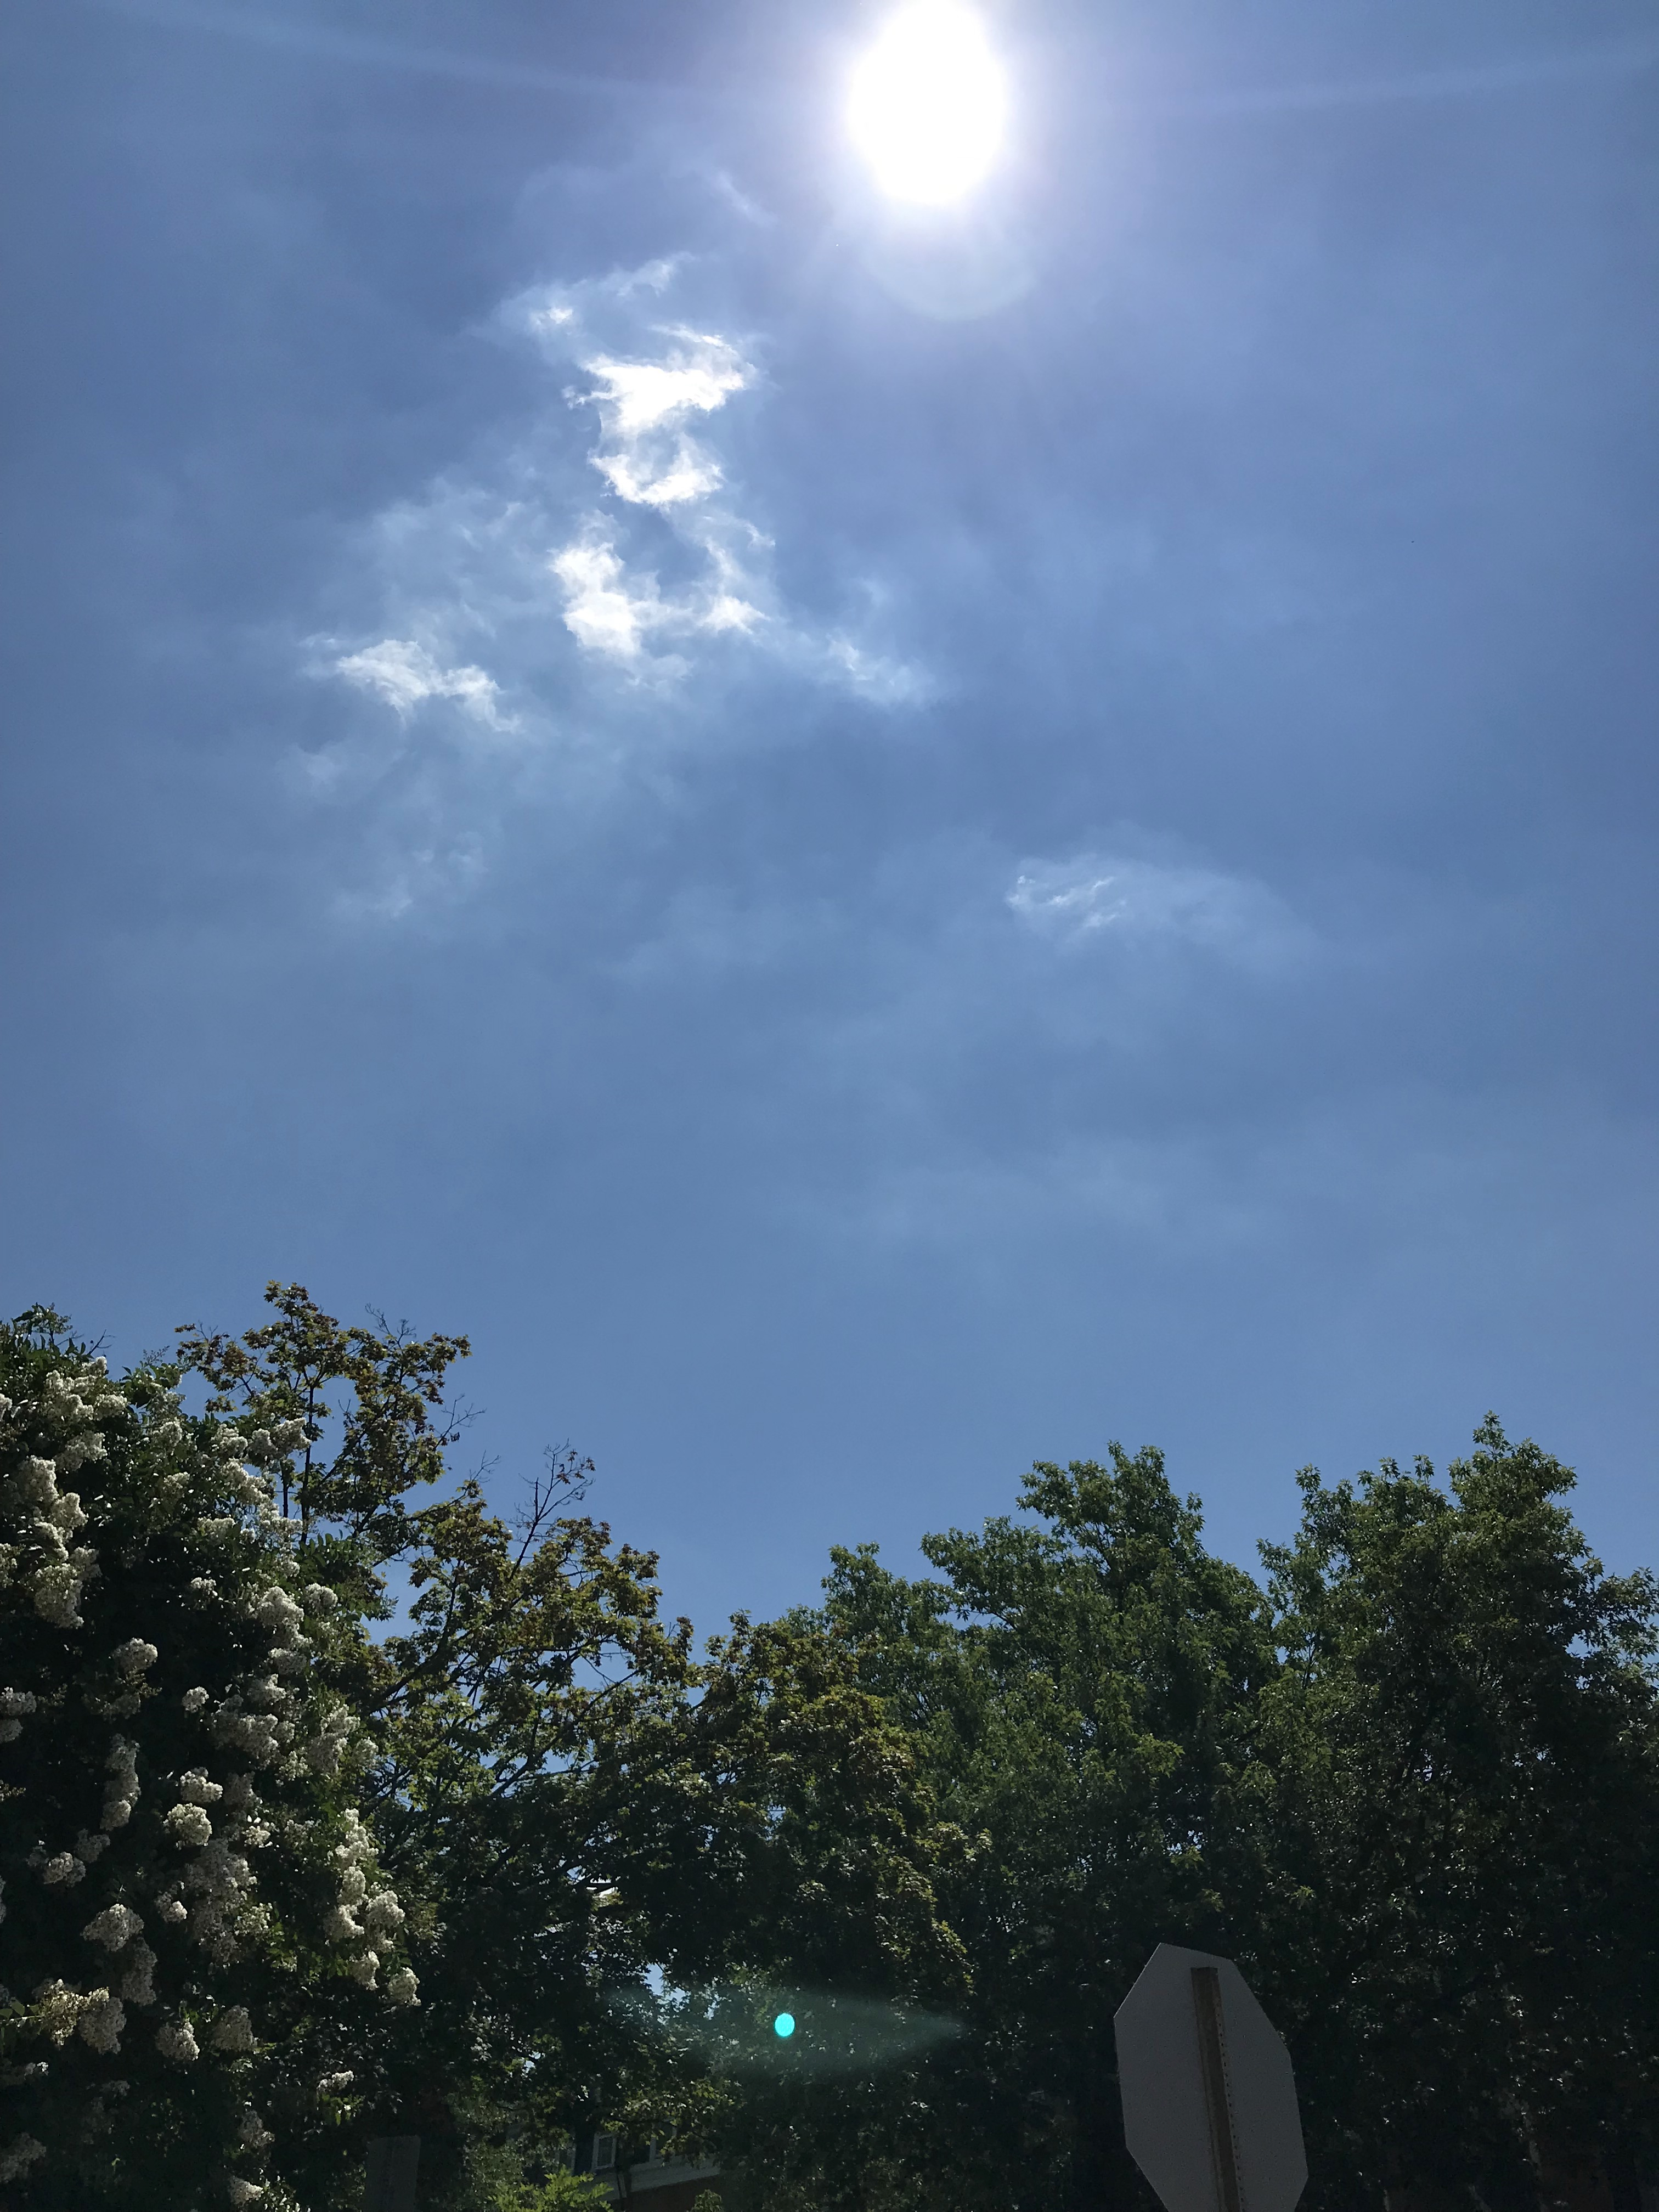flare: (772, 2012, 798, 2040)
